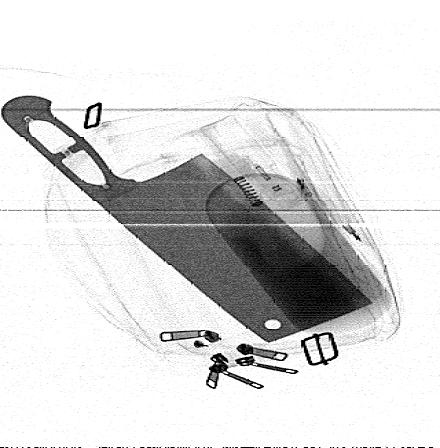Knife: (0, 94, 373, 343)
